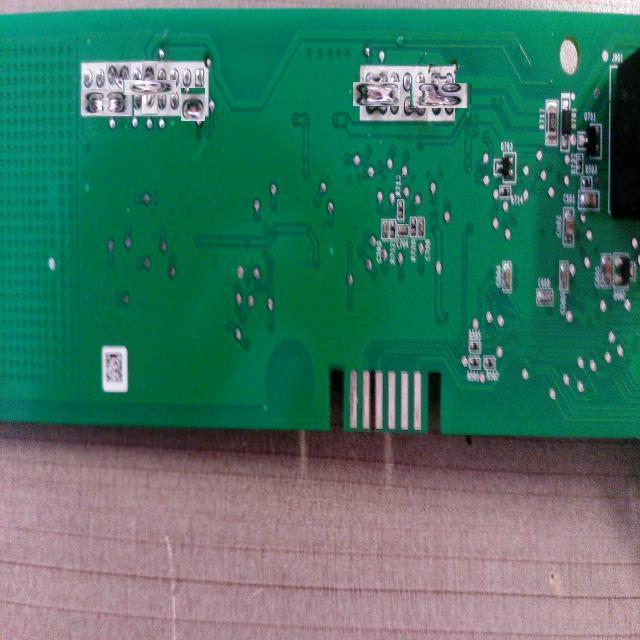Short_circuit: (419, 73, 463, 117), (358, 76, 394, 112), (132, 71, 167, 105), (103, 87, 133, 117), (180, 88, 205, 121), (105, 62, 131, 90), (400, 92, 426, 118), (82, 90, 106, 114)
